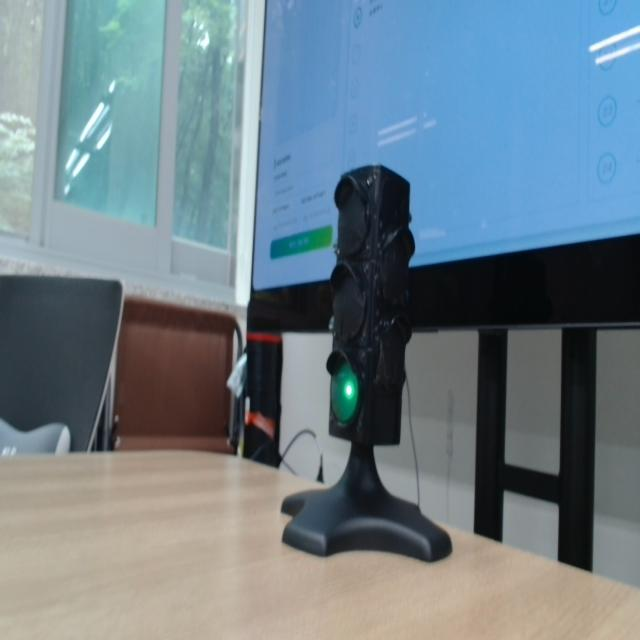green_light: (330, 361, 359, 424)
